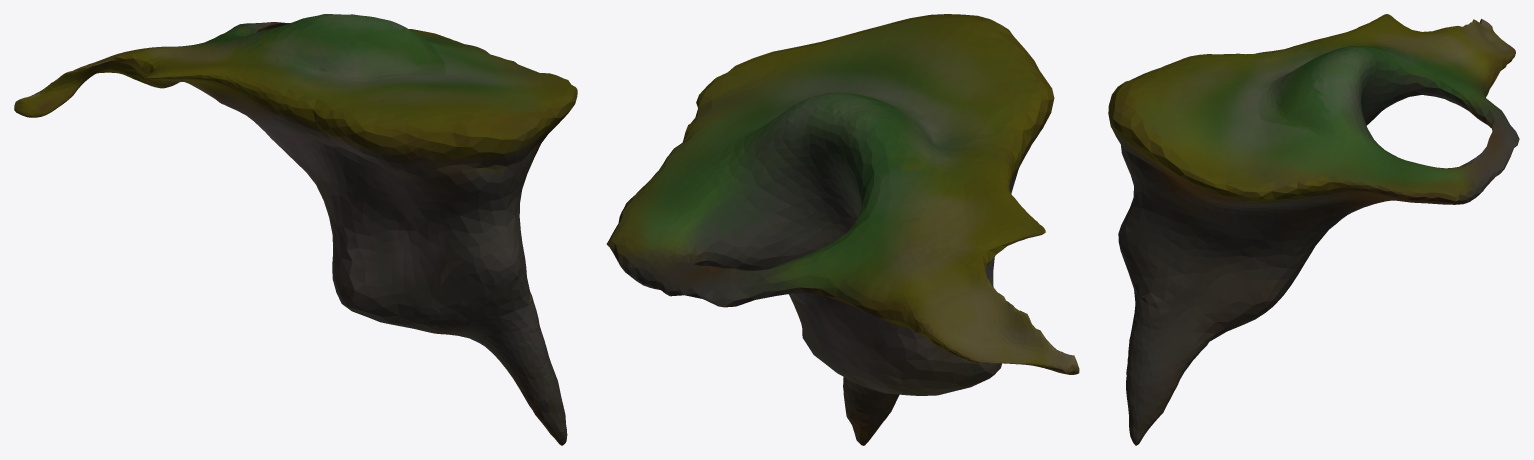
The model's file is MidIsland1.fbx.
3 views of the same model, side by side, from view 1: azimuth 30°, elevation 25°; view 2: azimuth 150°, elevation 25°; view 3: azimuth 270°, elevation 25° (orthographic). The views are drawn at different scales.
Visible parts, largest first — view 1: Icosphere; view 2: Icosphere; view 3: Icosphere.
Part boxes in pixels (<box>): Icosphere: <box>14,14,577,445</box>; Icosphere: <box>606,14,1079,445</box>; Icosphere: <box>1108,14,1519,445</box>.
Bounding box in the file's own units: 22372 × 18966 × 20693.
